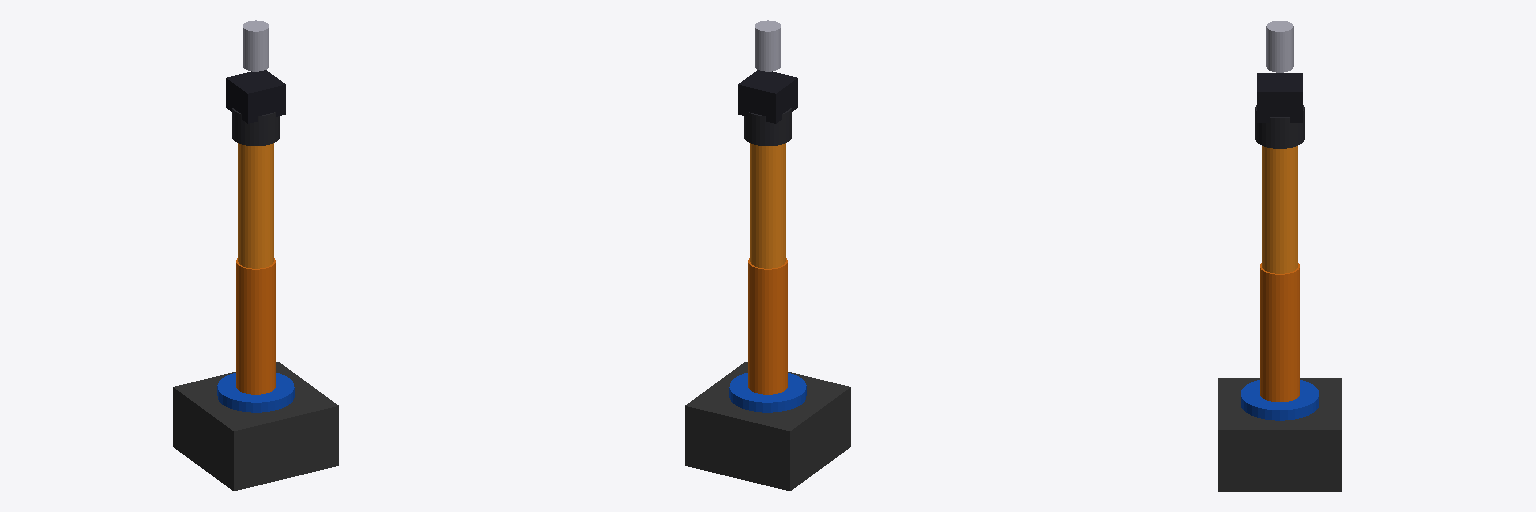
The robot description file, URDF, robot "braccio_v2":
<?xml version="1.0"?>
<!--
  Minimal Braccio V2 URDF (hand-authored).

  Units: meters (PyBullet convention). Numbers are derived from
  braccio_ctrl/constants.py: L1 = L2 = 125 mm, L3 = 60 mm. The
  rigid-body topology matches the real arm; visuals are primitive
  shapes, not photoreal.

  Frame convention (origin = arm base, sitting on the table):
    +X forward  (arm points forward at joint_base = 90°)
    +Y left
    +Z up

  Joints 0..5 expose the same 6 DOF as the Arduino protocol:
      joint_base       (revolute Z, 0..180°)
      joint_shoulder   (revolute Y, 15..165°)
      joint_elbow      (revolute Y, 0..180°)
      joint_wrist_vert (revolute Y, 0..180°)
      joint_wrist_rot  (revolute X, 0..180°)
      joint_gripper    (prismatic, 10..73° — encoded as mm for the sim)

  The wrist block has 4 fixed child links (one per ToF sensor) whose
  poses give the ray origin and direction for VirtualToF. Likewise the
  base has 4 fixed IR-pocket child links for VirtualIR.
-->
<robot name="braccio_v2">

  <!-- ========================================================
       BASE
       A solid box sitting on the table. The "pockets" for the 4
       IR sensors are fixed massless child links offset from the
       base centre.
       ======================================================== -->
  <link name="base_link">
    <visual>
      <origin xyz="0 0 0.030" rpy="0 0 0"/>
      <geometry>
        <box size="0.110 0.110 0.060"/>
      </geometry>
      <material name="base_grey">
        <color rgba="0.25 0.25 0.25 1"/>
      </material>
    </visual>
    <collision>
      <origin xyz="0 0 0.030" rpy="0 0 0"/>
      <geometry>
        <box size="0.110 0.110 0.060"/>
      </geometry>
    </collision>
    <inertial>
      <origin xyz="0 0 0.030"/>
      <mass value="0.6"/>
      <inertia ixx="0.0012" ixy="0" ixz="0" iyy="0.0012" iyz="0" izz="0.0012"/>
    </inertial>
  </link>

  <!-- ========================================================
       BASE ROTATION (joint 0)
       Rotates the whole arm around Z at the top of the base.
       ======================================================== -->
  <joint name="joint_base" type="revolute">
    <parent link="base_link"/>
    <child link="shoulder_pillar_link"/>
    <origin xyz="0 0 0.060" rpy="0 0 0"/>
    <axis xyz="0 0 1"/>
    <limit lower="-1.5708" upper="1.5708" effort="5" velocity="3.14"/>
  </joint>

  <!-- Small pillar that lifts the shoulder pivot ~10 mm above the
       rotating disc — gives the IK a stable pivot height. -->
  <link name="shoulder_pillar_link">
    <visual>
      <origin xyz="0 0 0.005" rpy="0 0 0"/>
      <geometry>
        <cylinder radius="0.035" length="0.010"/>
      </geometry>
      <material name="pillar_blue">
        <color rgba="0.10 0.35 0.75 1"/>
      </material>
    </visual>
    <collision>
      <origin xyz="0 0 0.005"/>
      <geometry>
        <cylinder radius="0.035" length="0.010"/>
      </geometry>
    </collision>
    <inertial>
      <mass value="0.05"/>
      <inertia ixx="1e-5" ixy="0" ixz="0" iyy="1e-5" iyz="0" izz="1e-5"/>
    </inertial>
  </link>

  <!-- ========================================================
       SHOULDER (joint 1)
       ======================================================== -->
  <joint name="joint_shoulder" type="revolute">
    <parent link="shoulder_pillar_link"/>
    <child link="upper_arm_link"/>
    <origin xyz="0 0 0.010" rpy="0 0 0"/>
    <axis xyz="0 1 0"/>
    <!-- Braccio servo range 15..165° maps to URDF -2.8798..-0.2618 rad.
         At Braccio 90° the URDF joint sits at -π/2, which puts the
         upper arm pointing straight up along +Z. -->
    <limit lower="-2.8798" upper="-0.2618" effort="5" velocity="3.14"/>
  </joint>

  <!-- Upper arm: length L1 = 125 mm. The visual cylinder is placed
       so that its axis goes from the shoulder pivot (local origin)
       to the elbow pivot (0.125 m along +X in the joint_shoulder
       zero pose, i.e. arm pointing forward). -->
  <link name="upper_arm_link">
    <visual>
      <origin xyz="0.0625 0 0" rpy="0 1.5708 0"/>
      <geometry>
        <cylinder radius="0.018" length="0.125"/>
      </geometry>
      <material name="arm_orange">
        <color rgba="0.85 0.45 0.10 1"/>
      </material>
    </visual>
    <collision>
      <origin xyz="0.0625 0 0" rpy="0 1.5708 0"/>
      <geometry>
        <cylinder radius="0.020" length="0.125"/>
      </geometry>
    </collision>
    <inertial>
      <origin xyz="0.0625 0 0"/>
      <mass value="0.10"/>
      <inertia ixx="5e-5" ixy="0" ixz="0" iyy="5e-5" iyz="0" izz="5e-5"/>
    </inertial>
  </link>

  <!-- ========================================================
       ELBOW (joint 2)
       ======================================================== -->
  <joint name="joint_elbow" type="revolute">
    <parent link="upper_arm_link"/>
    <child link="forearm_link"/>
    <origin xyz="0.125 0 0" rpy="0 0 0"/>
    <axis xyz="0 1 0"/>
    <limit lower="0" upper="3.14159" effort="5" velocity="3.14"/>
  </joint>

  <!-- Forearm: length L2 = 125 mm. -->
  <link name="forearm_link">
    <visual>
      <origin xyz="0.0625 0 0" rpy="0 1.5708 0"/>
      <geometry>
        <cylinder radius="0.016" length="0.125"/>
      </geometry>
      <material name="arm_orange2">
        <color rgba="0.90 0.55 0.15 1"/>
      </material>
    </visual>
    <collision>
      <origin xyz="0.0625 0 0" rpy="0 1.5708 0"/>
      <geometry>
        <cylinder radius="0.018" length="0.125"/>
      </geometry>
    </collision>
    <inertial>
      <origin xyz="0.0625 0 0"/>
      <mass value="0.08"/>
      <inertia ixx="4e-5" ixy="0" ixz="0" iyy="4e-5" iyz="0" izz="4e-5"/>
    </inertial>
  </link>

  <!-- ========================================================
       WRIST VERTICAL (joint 3)
       ======================================================== -->
  <joint name="joint_wrist_vert" type="revolute">
    <parent link="forearm_link"/>
    <child link="wrist_pitch_link"/>
    <origin xyz="0.125 0 0" rpy="0 0 0"/>
    <axis xyz="0 1 0"/>
    <!-- Braccio 0..180° → URDF -π/2..+π/2, centred at 0 for the
         "wrist aligned with forearm" rest pose. -->
    <limit lower="-1.5708" upper="1.5708" effort="5" velocity="3.14"/>
  </joint>

  <link name="wrist_pitch_link">
    <visual>
      <origin xyz="0.015 0 0" rpy="0 1.5708 0"/>
      <geometry>
        <cylinder radius="0.022" length="0.030"/>
      </geometry>
      <material name="wrist_grey">
        <color rgba="0.20 0.20 0.22 1"/>
      </material>
    </visual>
    <collision>
      <origin xyz="0.015 0 0" rpy="0 1.5708 0"/>
      <geometry>
        <cylinder radius="0.024" length="0.030"/>
      </geometry>
    </collision>
    <inertial>
      <origin xyz="0.015 0 0"/>
      <mass value="0.05"/>
      <inertia ixx="2e-5" ixy="0" ixz="0" iyy="2e-5" iyz="0" izz="2e-5"/>
    </inertial>
  </link>

  <!-- ========================================================
       WRIST ROTATION (joint 4) — rotates about the wrist's own axis
       (the forearm-aligned +X axis in the wrist_pitch_link frame).
       ======================================================== -->
  <joint name="joint_wrist_rot" type="revolute">
    <parent link="wrist_pitch_link"/>
    <child link="wrist_roll_link"/>
    <origin xyz="0.030 0 0" rpy="0 0 0"/>
    <axis xyz="1 0 0"/>
    <!-- Braccio 0..180° → URDF -π/2..+π/2, centred at 0 so the ToF
         mounts sit in their "canonical" roll orientation at 90°. -->
    <limit lower="-1.5708" upper="1.5708" effort="5" velocity="3.14"/>
  </joint>

  <!-- wrist_roll_link is the body the 4 ToF sensors are mounted on.
       Local frame:
         +X  along the forearm → forward (sensor "front")
         +Y  wrist-left        → sensor "left"
         +Z  wrist-up          → sensor "up"
  -->
  <link name="wrist_roll_link">
    <visual>
      <origin xyz="0.010 0 0" rpy="0 0 0"/>
      <geometry>
        <box size="0.030 0.040 0.040"/>
      </geometry>
      <material name="wrist_block">
        <color rgba="0.15 0.15 0.18 1"/>
      </material>
    </visual>
    <collision>
      <origin xyz="0.010 0 0" rpy="0 0 0"/>
      <geometry>
        <box size="0.030 0.040 0.040"/>
      </geometry>
    </collision>
    <inertial>
      <origin xyz="0.010 0 0"/>
      <mass value="0.04"/>
      <inertia ixx="2e-5" ixy="0" ixz="0" iyy="2e-5" iyz="0" izz="2e-5"/>
    </inertial>
  </link>

  <!-- ========================================================
       GRIPPER (joint 5)  — prismatic stand-in.
       On the real arm this is a servo driving a 4-bar linkage. For
       the sim we only need the tip position (L3 = 60 mm past the
       wrist_roll_link origin). Joint value is ignored by the
       controller except for the SET ALL payload.
       ======================================================== -->
  <joint name="joint_gripper" type="fixed">
    <parent link="wrist_roll_link"/>
    <child link="gripper_link"/>
    <origin xyz="0.060 0 0" rpy="0 0 0"/>
  </joint>

  <link name="gripper_link">
    <visual>
      <origin xyz="0 0 0" rpy="0 1.5708 0"/>
      <geometry>
        <cylinder radius="0.012" length="0.040"/>
      </geometry>
      <material name="gripper_silver">
        <color rgba="0.70 0.70 0.75 1"/>
      </material>
    </visual>
    <collision>
      <origin xyz="0 0 0" rpy="0 1.5708 0"/>
      <geometry>
        <cylinder radius="0.014" length="0.040"/>
      </geometry>
    </collision>
    <inertial>
      <mass value="0.02"/>
      <inertia ixx="1e-5" ixy="0" ixz="0" iyy="1e-5" iyz="0" izz="1e-5"/>
    </inertial>
  </link>

  <!-- ========================================================
       TOF SENSOR MOUNTS  (4× fixed massless children of wrist_roll)
       Each link sits on one face of the wrist block. Its +X axis
       IS the ray direction the sim raycasts along.

       Channel mapping (MUX index → physical direction):
         CH0 → tof_up_link     (top,    rays point +Z)
         CH1 → tof_right_link  (right,  rays point -Y)
         CH2 → tof_left_link   (left,   rays point +Y)
         CH3 → tof_down_link   (bottom, rays point -Z)
       ======================================================== -->
  <joint name="mount_tof_up" type="fixed">
    <parent link="wrist_roll_link"/>
    <child link="tof_up_link"/>
    <origin xyz="0.010 0 0.020" rpy="0 -1.5708 0"/>
  </joint>
  <link name="tof_up_link">
    <inertial><mass value="0.001"/><inertia ixx="1e-8" ixy="0" ixz="0" iyy="1e-8" iyz="0" izz="1e-8"/></inertial>
  </link>

  <joint name="mount_tof_right" type="fixed">
    <parent link="wrist_roll_link"/>
    <child link="tof_right_link"/>
    <origin xyz="0.010 -0.025 0" rpy="0 0 -1.5708"/>
  </joint>
  <link name="tof_right_link">
    <inertial><mass value="0.001"/><inertia ixx="1e-8" ixy="0" ixz="0" iyy="1e-8" iyz="0" izz="1e-8"/></inertial>
  </link>

  <joint name="mount_tof_left" type="fixed">
    <parent link="wrist_roll_link"/>
    <child link="tof_left_link"/>
    <origin xyz="0.010 0.025 0" rpy="0 0 1.5708"/>
  </joint>
  <link name="tof_left_link">
    <inertial><mass value="0.001"/><inertia ixx="1e-8" ixy="0" ixz="0" iyy="1e-8" iyz="0" izz="1e-8"/></inertial>
  </link>

  <joint name="mount_tof_down" type="fixed">
    <parent link="wrist_roll_link"/>
    <child link="tof_down_link"/>
    <origin xyz="0.010 0 -0.020" rpy="0 1.5708 0"/>
  </joint>
  <link name="tof_down_link">
    <inertial><mass value="0.001"/><inertia ixx="1e-8" ixy="0" ixz="0" iyy="1e-8" iyz="0" izz="1e-8"/></inertial>
  </link>

  <!-- ========================================================
       IR POCKETS  (4× fixed massless children of base_link)
       Two on the +Y side, two on the -Y side. Each ray shoots
       outward (perpendicular to the base side) at the same height
       as the pocket.
       ======================================================== -->
  <joint name="mount_ir_left_front" type="fixed">
    <parent link="base_link"/>
    <child link="ir_left_front_link"/>
    <origin xyz="0.025 0.055 0.035" rpy="0 0 1.5708"/>
  </joint>
  <link name="ir_left_front_link">
    <inertial><mass value="0.001"/><inertia ixx="1e-8" ixy="0" ixz="0" iyy="1e-8" iyz="0" izz="1e-8"/></inertial>
  </link>

  <joint name="mount_ir_left_back" type="fixed">
    <parent link="base_link"/>
    <child link="ir_left_back_link"/>
    <origin xyz="-0.025 0.055 0.035" rpy="0 0 1.5708"/>
  </joint>
  <link name="ir_left_back_link">
    <inertial><mass value="0.001"/><inertia ixx="1e-8" ixy="0" ixz="0" iyy="1e-8" iyz="0" izz="1e-8"/></inertial>
  </link>

  <joint name="mount_ir_right_front" type="fixed">
    <parent link="base_link"/>
    <child link="ir_right_front_link"/>
    <origin xyz="0.025 -0.055 0.035" rpy="0 0 -1.5708"/>
  </joint>
  <link name="ir_right_front_link">
    <inertial><mass value="0.001"/><inertia ixx="1e-8" ixy="0" ixz="0" iyy="1e-8" iyz="0" izz="1e-8"/></inertial>
  </link>

  <joint name="mount_ir_right_back" type="fixed">
    <parent link="base_link"/>
    <child link="ir_right_back_link"/>
    <origin xyz="-0.025 -0.055 0.035" rpy="0 0 -1.5708"/>
  </joint>
  <link name="ir_right_back_link">
    <inertial><mass value="0.001"/><inertia ixx="1e-8" ixy="0" ixz="0" iyy="1e-8" iyz="0" izz="1e-8"/></inertial>
  </link>

</robot>

--- Facts derived from the render (not from the file) ---
The picture shows the robot from 3 angles, left to right: view 1: azimuth 30°, elevation 25°; view 2: azimuth 150°, elevation 25°; view 3: azimuth 270°, elevation 25°; orthographic projection.
Robot: braccio_v2 — 15 links, 14 joints (5 revolute, 9 fixed); root link base_link; default pose: joints at zero except 1 at the middle of their limits (joint_shoulder = -1.57).
Links seen in each view (by area): view 1: base_link, upper_arm_link, forearm_link, wrist_roll_link, shoulder_pillar_link, wrist_pitch_link, gripper_link; view 2: base_link, upper_arm_link, forearm_link, wrist_roll_link, shoulder_pillar_link, wrist_pitch_link, gripper_link; view 3: base_link, upper_arm_link, forearm_link, wrist_roll_link, shoulder_pillar_link, gripper_link, wrist_pitch_link.
Boxes of the visible links, x1=… form: base_link: x1=173, y1=362, x2=338, y2=490; upper_arm_link: x1=236, y1=258, x2=275, y2=394; forearm_link: x1=238, y1=143, x2=273, y2=268; wrist_roll_link: x1=226, y1=70, x2=285, y2=123; shoulder_pillar_link: x1=217, y1=373, x2=294, y2=412; wrist_pitch_link: x1=232, y1=108, x2=279, y2=145; gripper_link: x1=243, y1=20, x2=268, y2=71; base_link: x1=685, y1=362, x2=850, y2=490; upper_arm_link: x1=748, y1=258, x2=787, y2=394; forearm_link: x1=750, y1=143, x2=785, y2=268; wrist_roll_link: x1=738, y1=70, x2=797, y2=123; shoulder_pillar_link: x1=729, y1=373, x2=806, y2=412; wrist_pitch_link: x1=744, y1=108, x2=791, y2=145; gripper_link: x1=755, y1=20, x2=780, y2=71; base_link: x1=1218, y1=378, x2=1341, y2=491; upper_arm_link: x1=1260, y1=263, x2=1299, y2=401; forearm_link: x1=1262, y1=146, x2=1297, y2=273; wrist_roll_link: x1=1257, y1=73, x2=1302, y2=122; shoulder_pillar_link: x1=1241, y1=380, x2=1318, y2=420; gripper_link: x1=1266, y1=21, x2=1293, y2=72; wrist_pitch_link: x1=1255, y1=105, x2=1304, y2=148.
Size in the robot's own frame: 0.11 by 0.11 by 0.43 metres.
Geometry: primitives only (box / cylinder / sphere), no mesh files.
